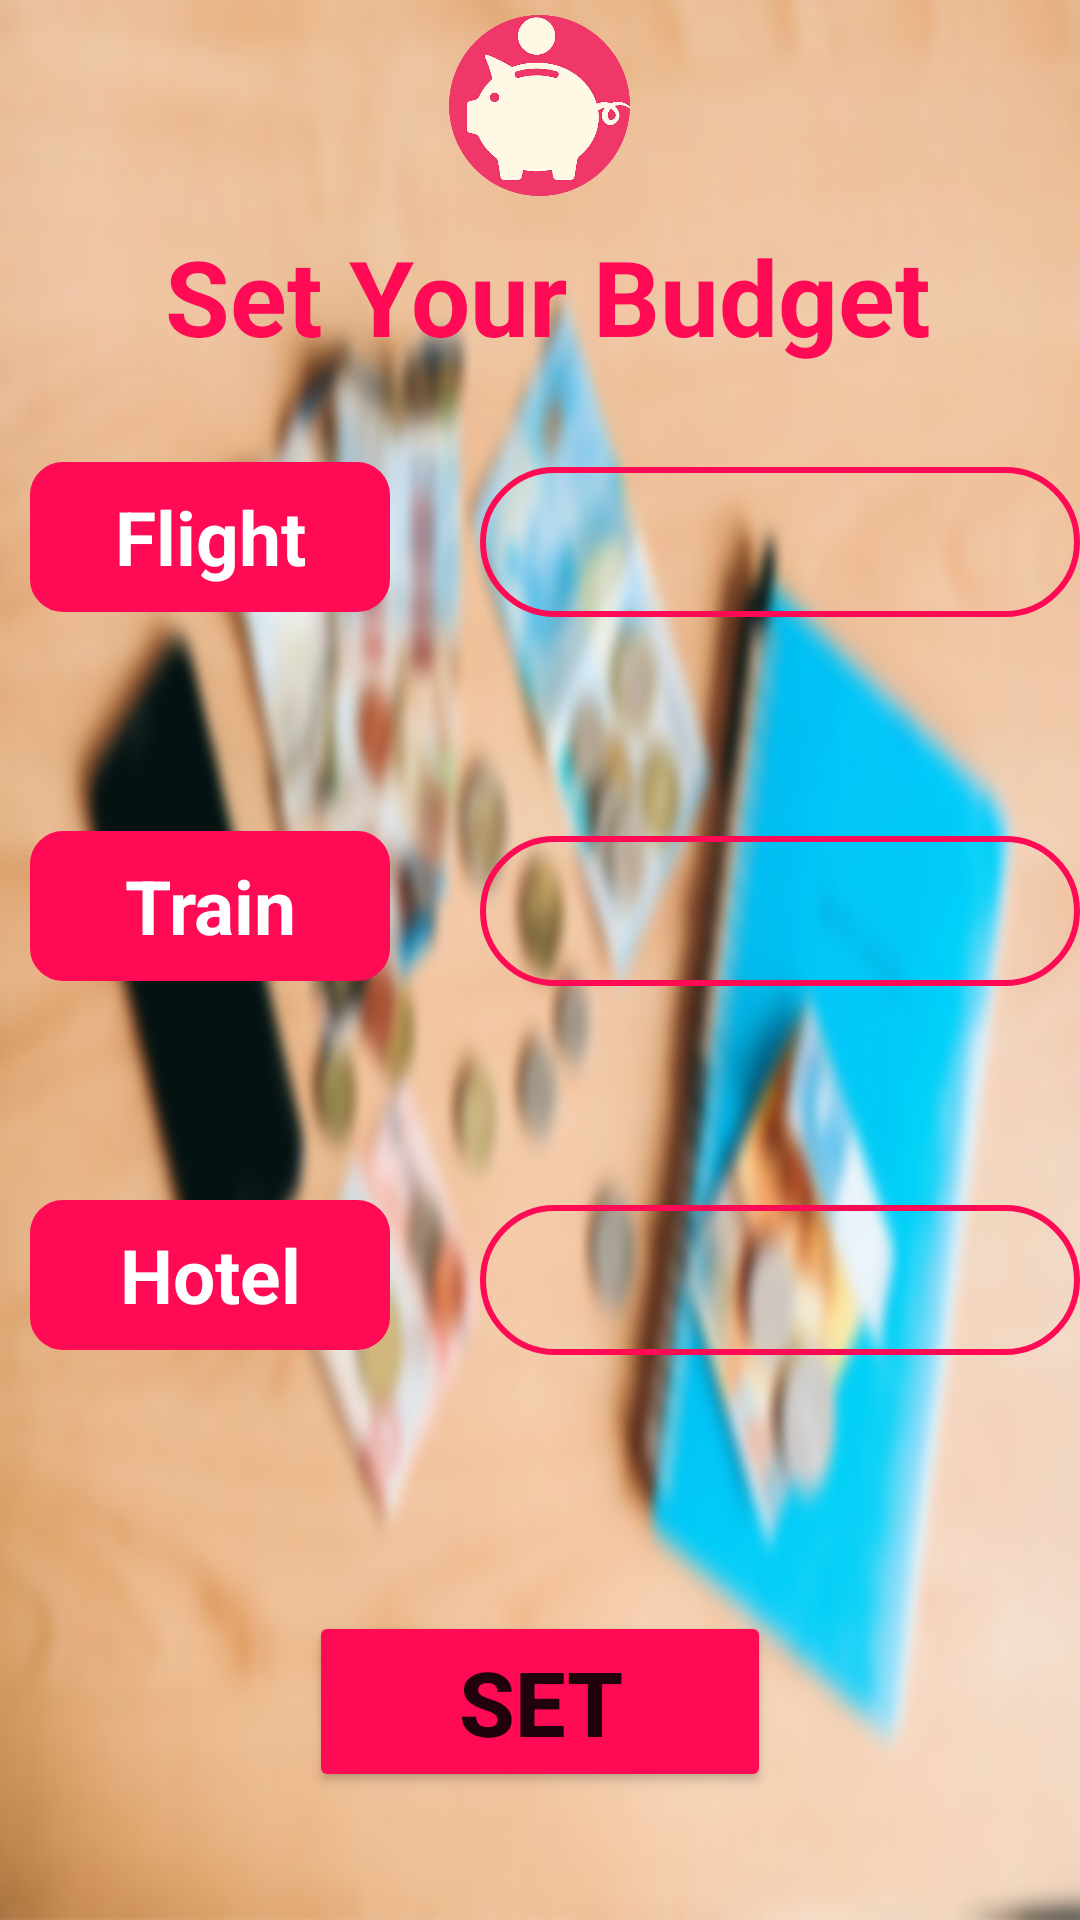

Point at icon controls on the screen. Image size 1080 × 1920, points as (x=x, y=y).
budgeticon: (x=563, y=105)
